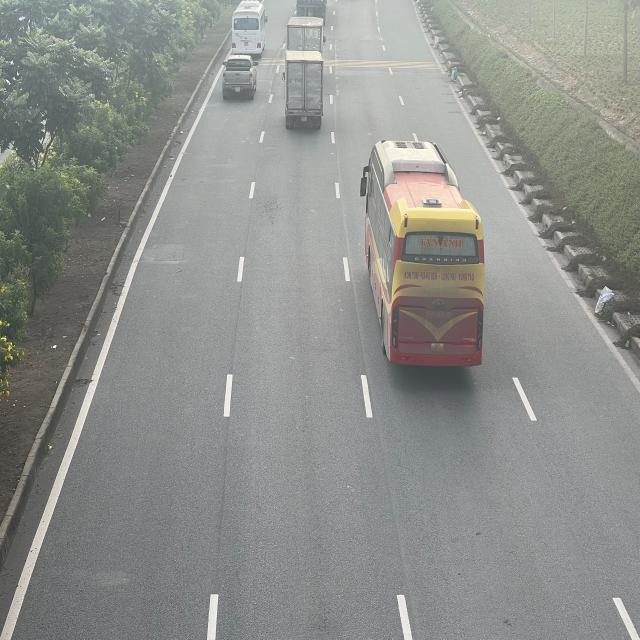car: (222, 54, 259, 100)
coach: (362, 141, 488, 373), (229, 4, 265, 55)
truck: (282, 52, 322, 127), (284, 16, 324, 59)
